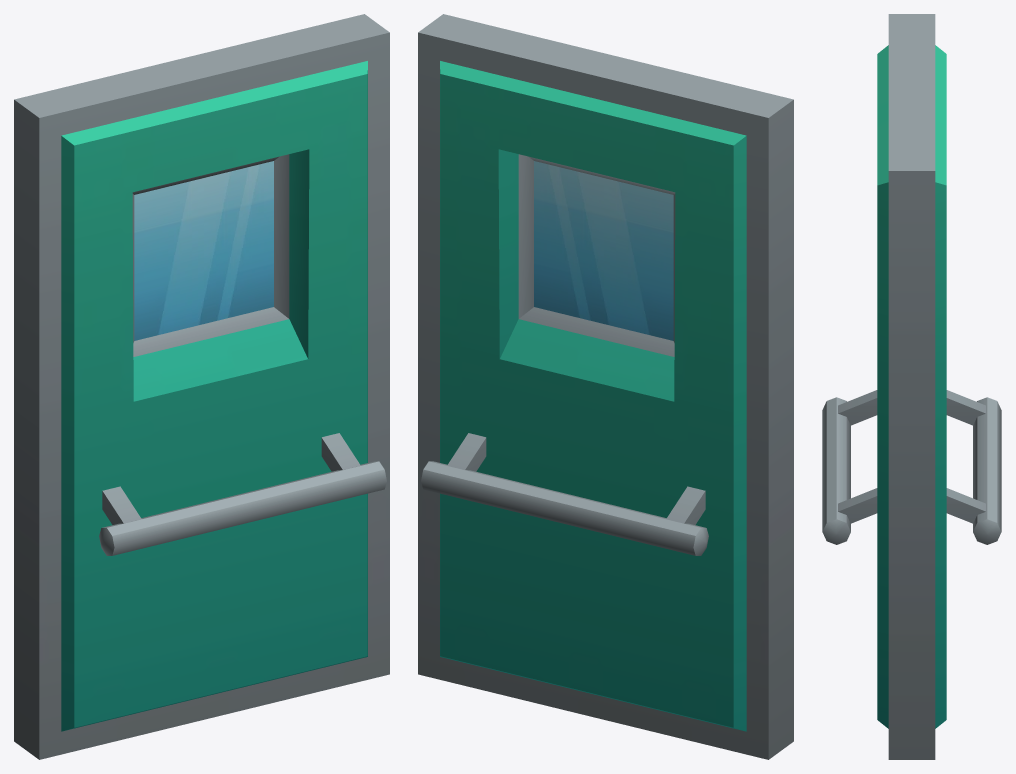
The model's file is door-a.glb.
3 renders of one model, left to right at view 1: azimuth 30°, elevation 25°; view 2: azimuth 150°, elevation 25°; view 3: azimuth 270°, elevation 25°, orthographic. The views are drawn at different scales.
Visible parts, largest first — view 1: door_A; view 2: door_A; view 3: door_A.
Boxes of the visible parts, x1,y1,x2,y2 form: door_A: (14, 14, 389, 759); door_A: (418, 14, 793, 759); door_A: (822, 14, 1001, 759).
Bounding box in the file's own units: 1.6 × 2.8 × 0.7715.
1 material, 1 textured.
